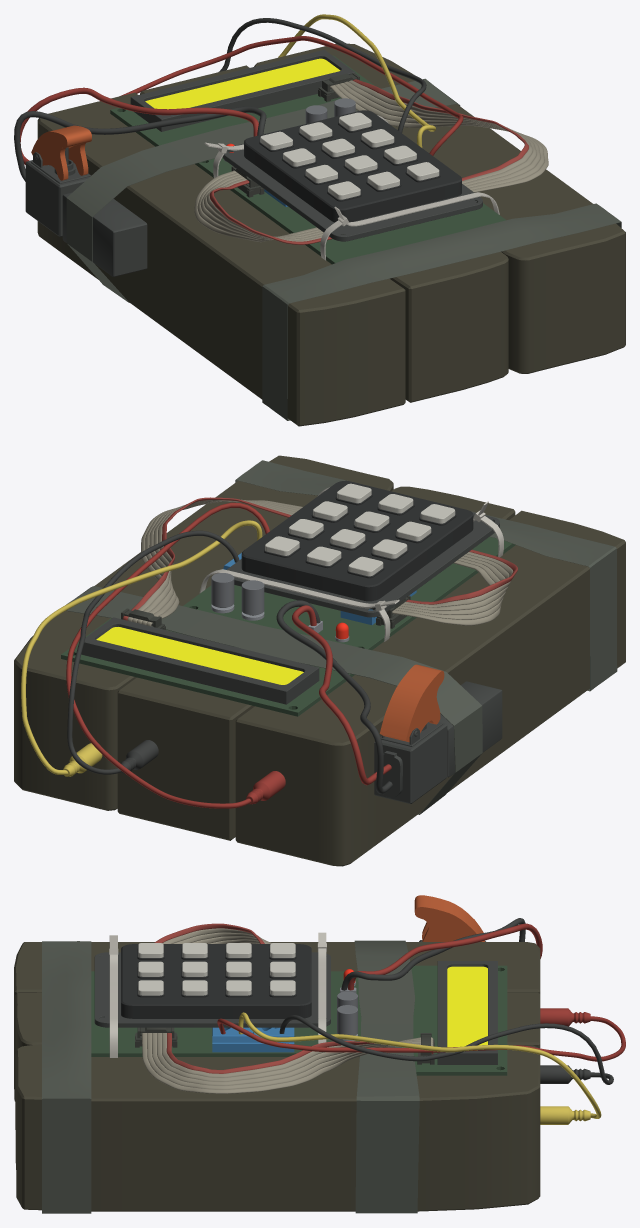
The model's file is XYZ Homework detailing bomb.fbx.
The picture shows the model from 3 angles, top to bottom: view 1: azimuth 30°, elevation 25°; view 2: azimuth 150°, elevation 25°; view 3: azimuth 270°, elevation 25°; orthographic projection. The views are drawn at different scales.
Visible parts, largest first — view 1: Cube, Plane.002, Cube.002, Plane.003, Plane, Plane.001, Cube.003, Cube.030, Cube.001, Cube.004, Cube.029, Cube.005 (+7 smaller); view 2: Cube, Cube.002, Plane.003, Plane.001, Plane, Plane.002, Cube.003, Cube.029, Cube.001, Cube.030, Cube.008, Cube.005 (+13 smaller); view 3: Cube, Plane.003, Plane.002, Cube.002, Plane, Cube.030, Plane.001, Cube.003, Cube.001, BezierCurve.005, Cube.008, BezierCurve.004 (+12 smaller).
Boxes of the visible parts, x1,y1,x2,y2 form: Cube: (37, 43, 625, 426); Plane.002: (262, 203, 621, 420); Cube.002: (244, 110, 461, 222); Plane.003: (66, 78, 460, 302); Plane: (110, 55, 505, 264); Plane.001: (130, 49, 355, 131); Cube.003: (259, 112, 440, 201); Cube.030: (330, 79, 548, 192); Cube.001: (222, 143, 482, 241); Cube.004: (62, 192, 147, 276); Cube.029: (194, 170, 332, 244); Cube.005: (25, 160, 91, 236); Cube: (14, 455, 625, 866); Cube.002: (241, 480, 473, 601); Plane.003: (66, 586, 482, 814); Plane.001: (81, 617, 319, 704); Plane: (61, 537, 515, 716); Plane.002: (235, 460, 617, 691); Cube.003: (264, 483, 456, 578); Cube.029: (392, 549, 517, 625); Cube.001: (226, 512, 499, 617); Cube.030: (123, 497, 302, 626); Cube.008: (379, 664, 444, 742); Cube.005: (374, 722, 447, 803); Cube: (14, 942, 540, 1211); Plane.003: (354, 940, 419, 1213); Plane.002: (42, 941, 91, 1213); Cube.002: (121, 944, 311, 1018); Plane: (91, 965, 507, 1075); Cube.030: (142, 1033, 433, 1093); Plane.001: (437, 961, 497, 1064); Cube.003: (137, 943, 296, 997); Cube.001: (94, 952, 330, 1027); BezierCurve.005: (238, 1012, 601, 1118); Cube.008: (414, 895, 484, 941); BezierCurve.004: (279, 1015, 613, 1084).
Bounding box in the file's own units: 352 × 148 × 506.
